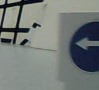left: (71, 21, 99, 72)
